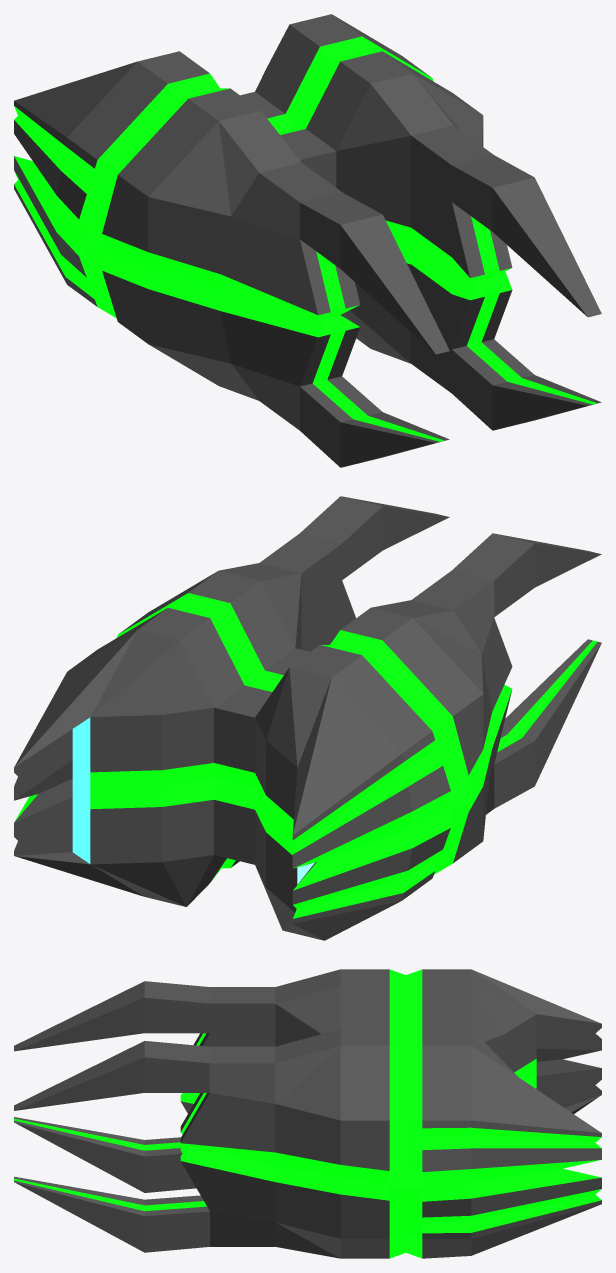
The model's file is EnemyShip.fbx.
The picture shows the model from 3 angles, top to bottom: view 1: azimuth 30°, elevation 25°; view 2: azimuth 150°, elevation 25°; view 3: azimuth 270°, elevation 25°; orthographic projection. The views are drawn at different scales.
Parts seen in each view (by area): view 1: Cube; view 2: Cube; view 3: Cube.
Boxes of the visible parts, x1,y1,x2,y2 form: Cube: [14, 14, 601, 467]; Cube: [14, 496, 601, 940]; Cube: [14, 969, 601, 1258].
Bounding box in the file's own units: 278 × 180 × 450.
